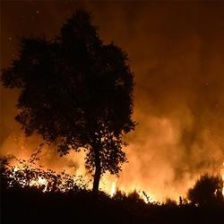fire: (5, 148, 205, 209)
smoke: (123, 8, 220, 131)
